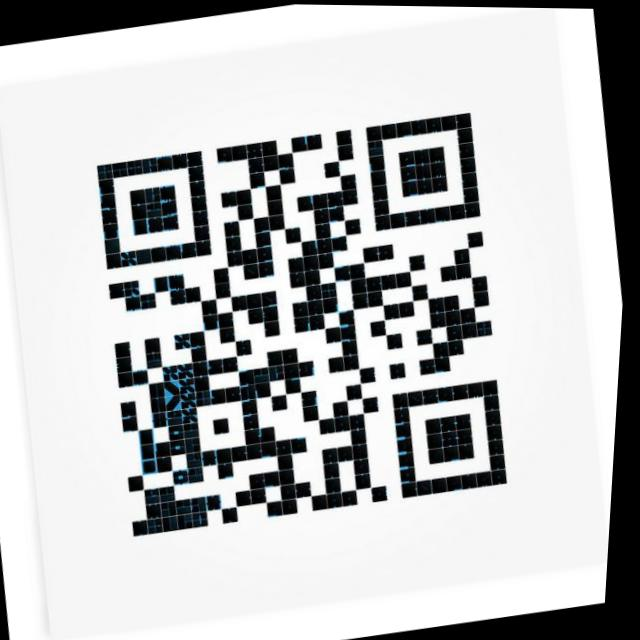qrcode: (83, 108, 530, 540)
